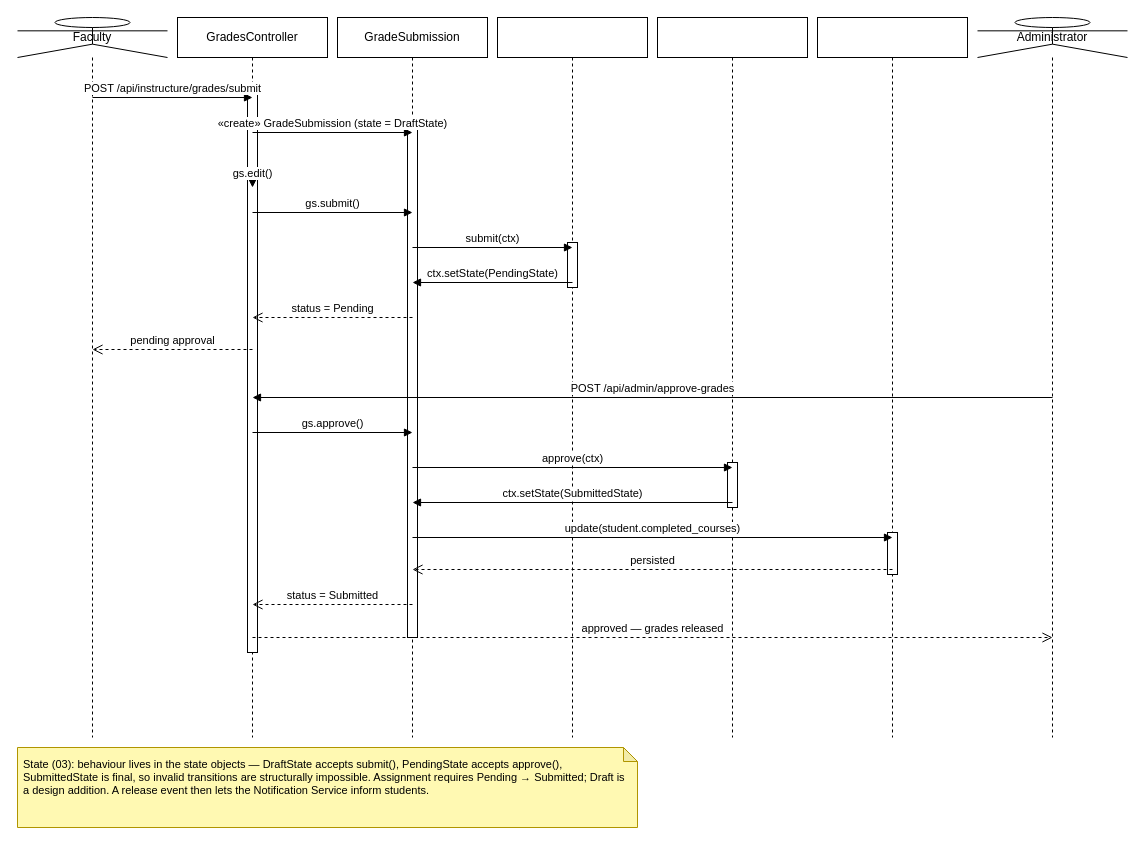
Some shapes in this 1145 by 845 pixel diagram are drawn without their labels. Each missing label, with the box of its shape:
AcademicRecordRepository: (816, 16, 968, 738)
DraftState: (496, 16, 648, 738)
PendingState: (656, 16, 808, 738)
